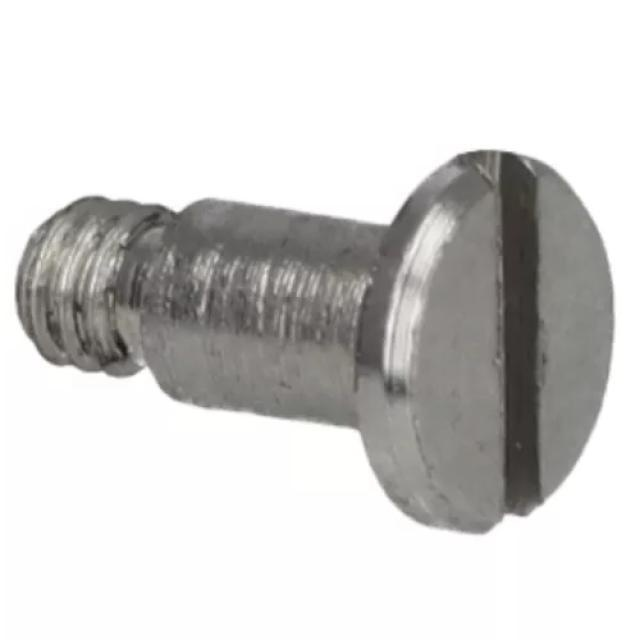duz: (353, 147, 616, 537)
